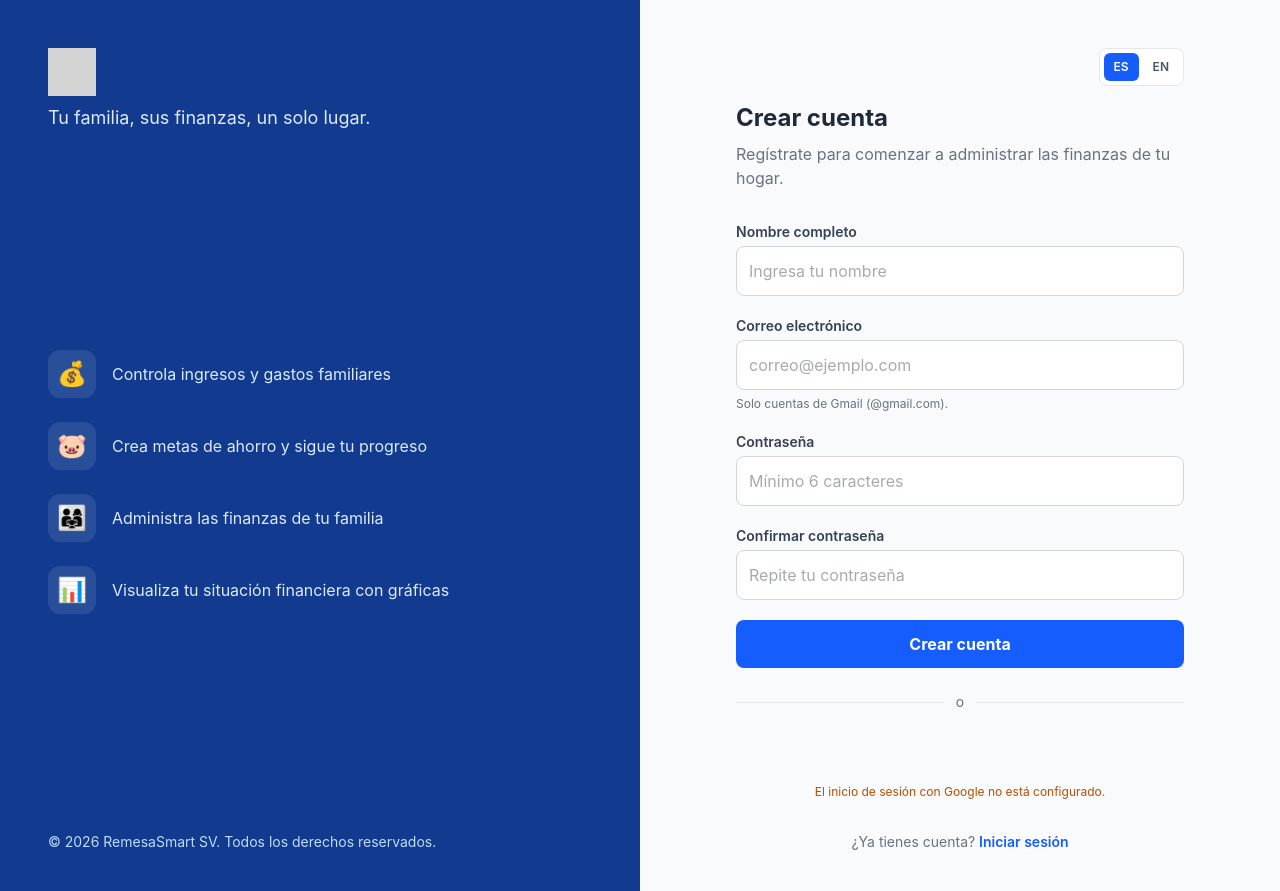
Registro sin campo de familia › marca aria-invalid en la confirmación al discrepar las claves y no envía el request
Type "Ana" into the field labelled "Nombre completo". click: [960, 271]
box: [736,246,1184,296]
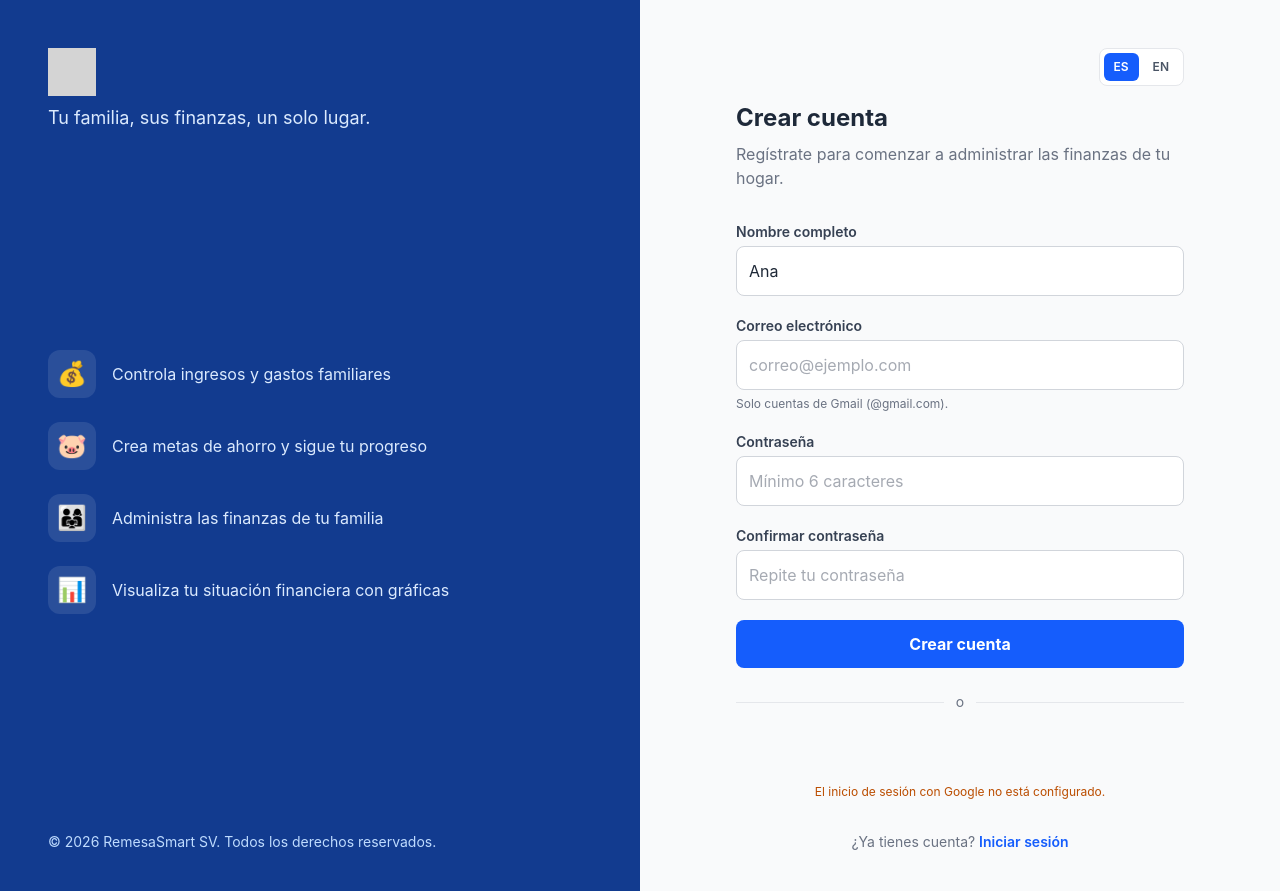
Type "ana@gmail.com" into the field labelled "Correo electrónico". click: [960, 365]
box: [736,340,1184,390]
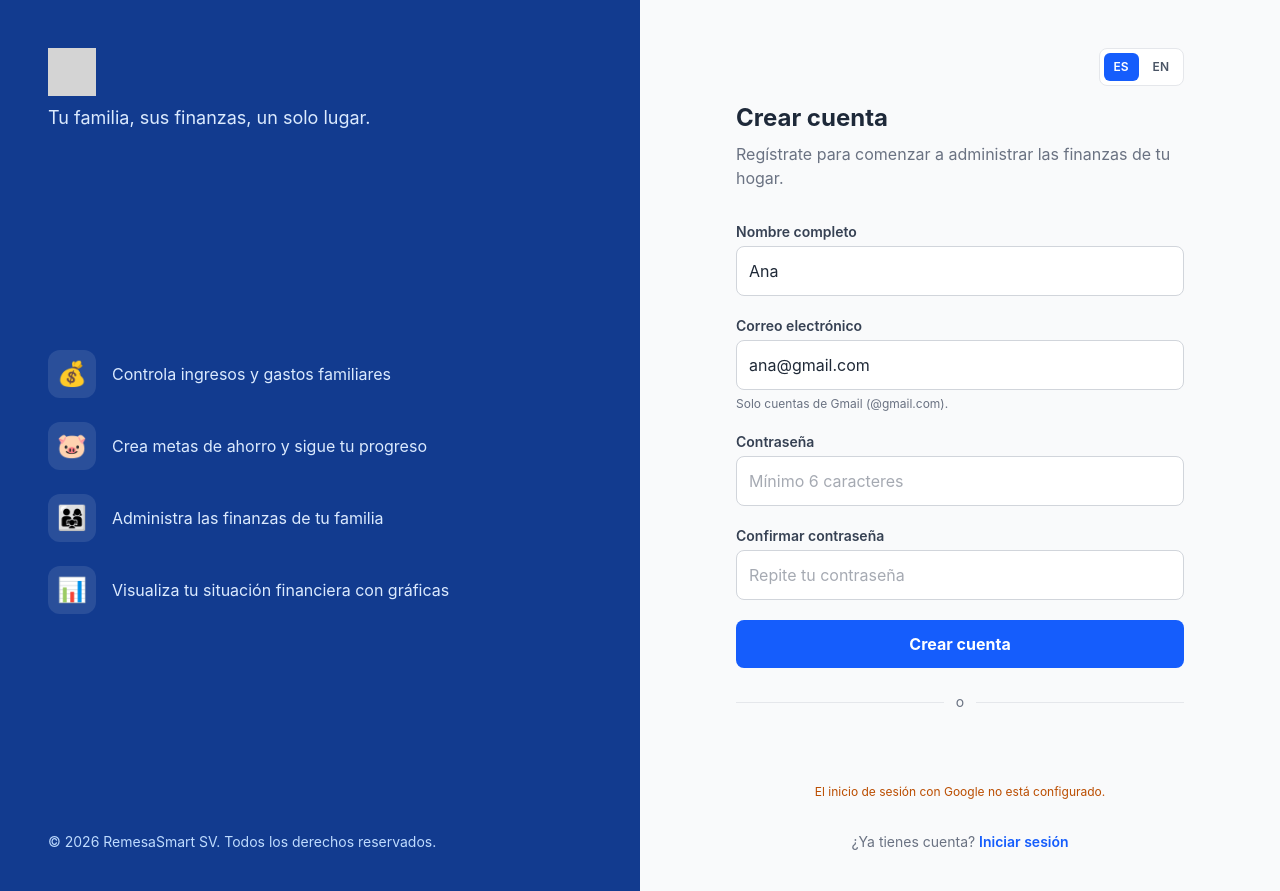
Type "claveSegura1" into the password field labelled "Contraseña". click: [960, 481]
box: [736,456,1184,506]
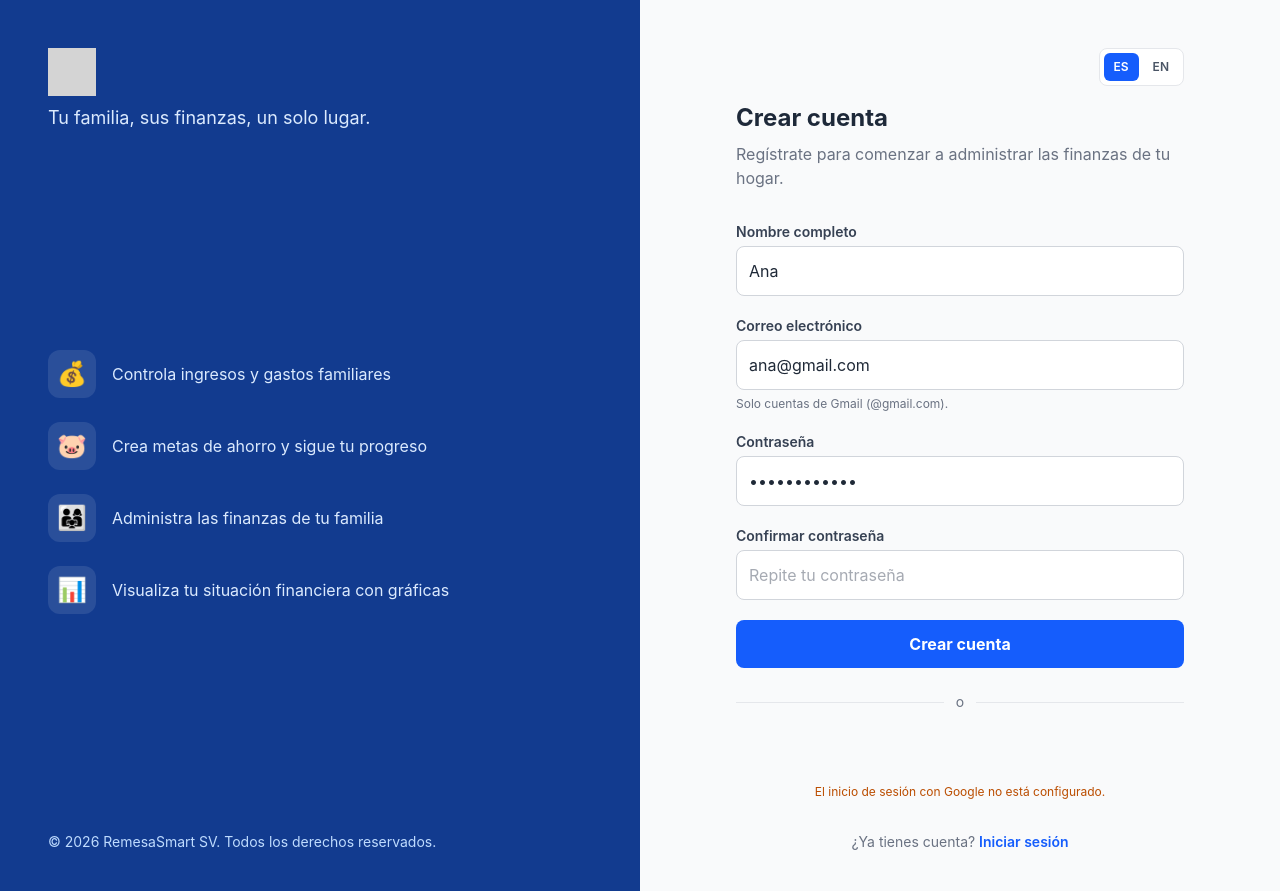
Type "otraClave2" into the password field labelled "Confirmar contraseña". click: [960, 575]
box: [736,550,1184,600]
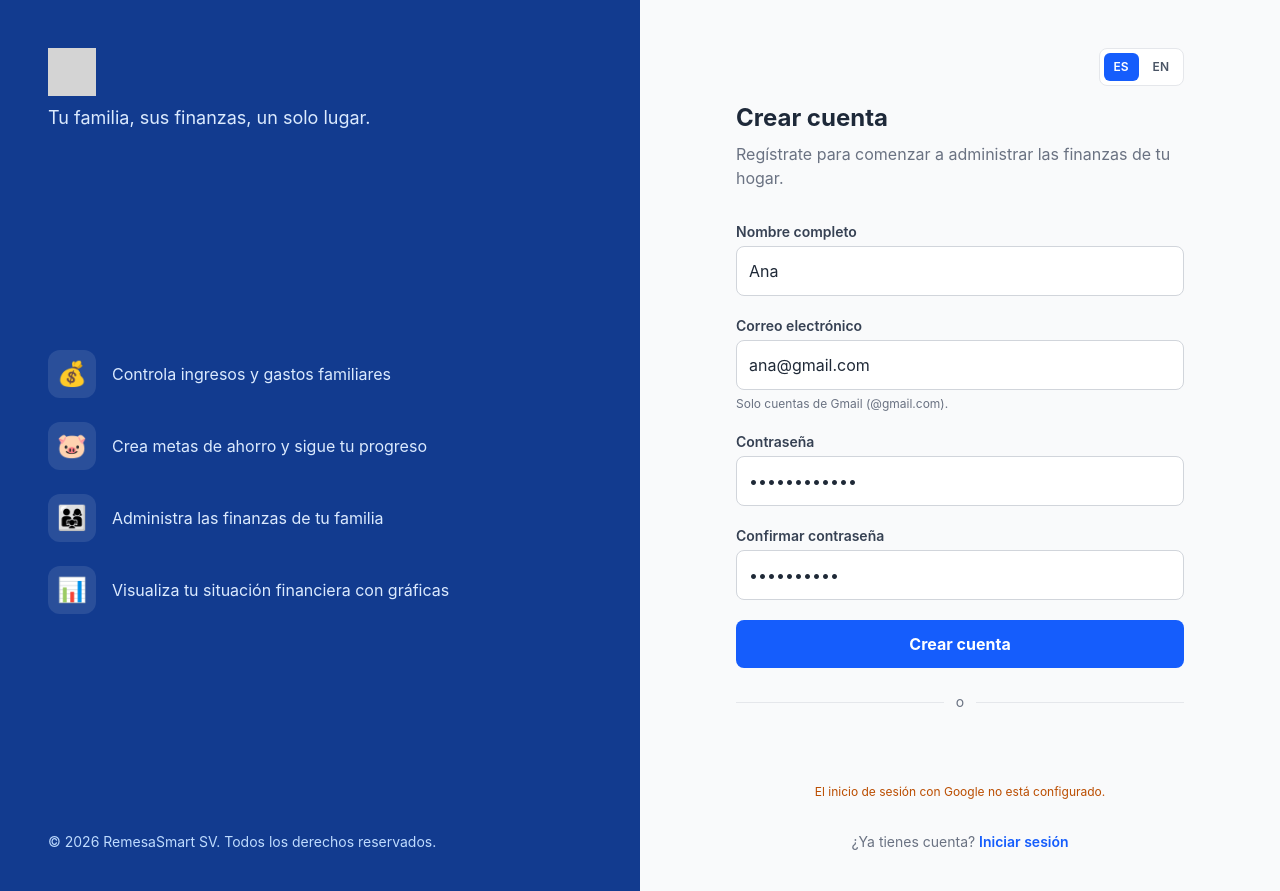
Submit the form named "Crear cuenta", box [736,222,1184,668]
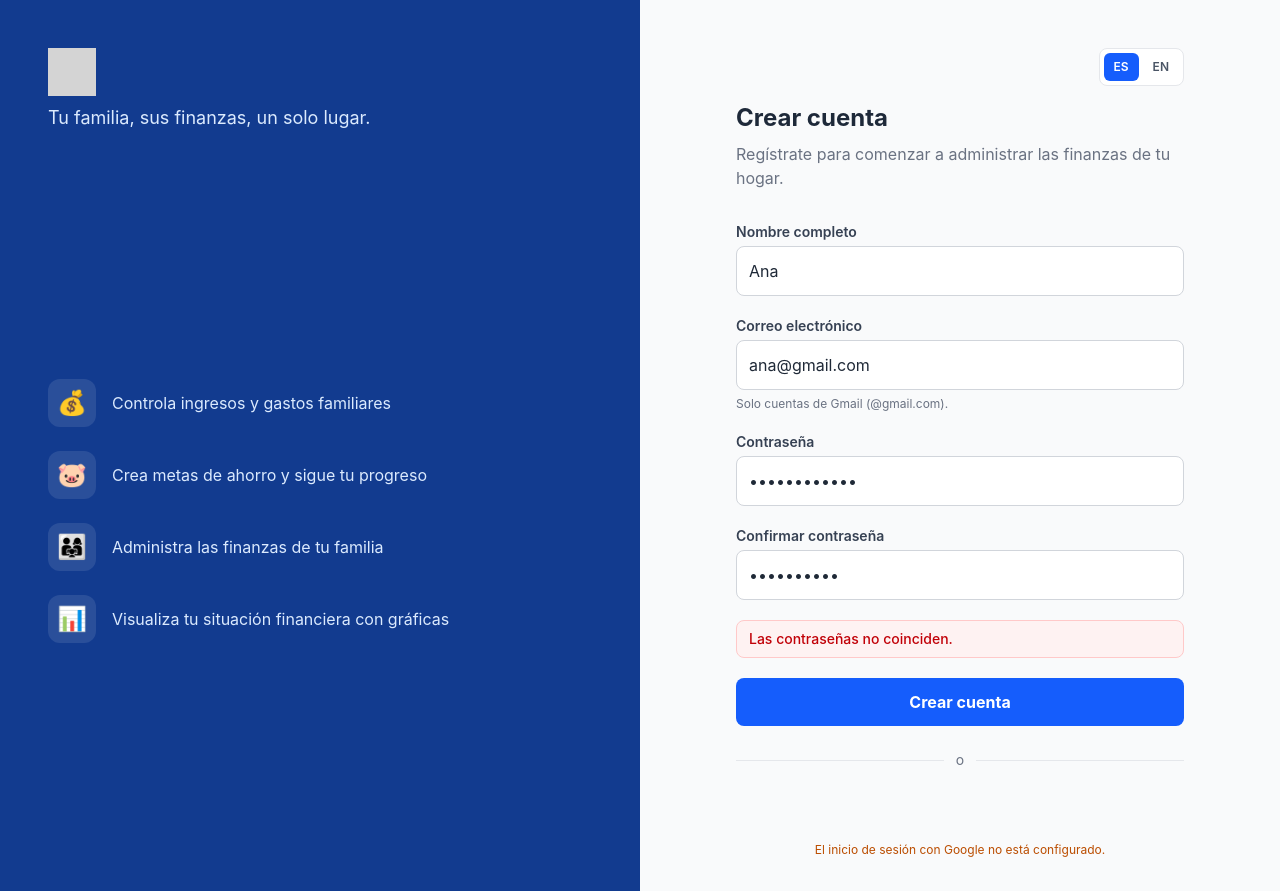
expect the message "Las contraseñas no coinciden." is shown: met, box [736,620,1184,658]
